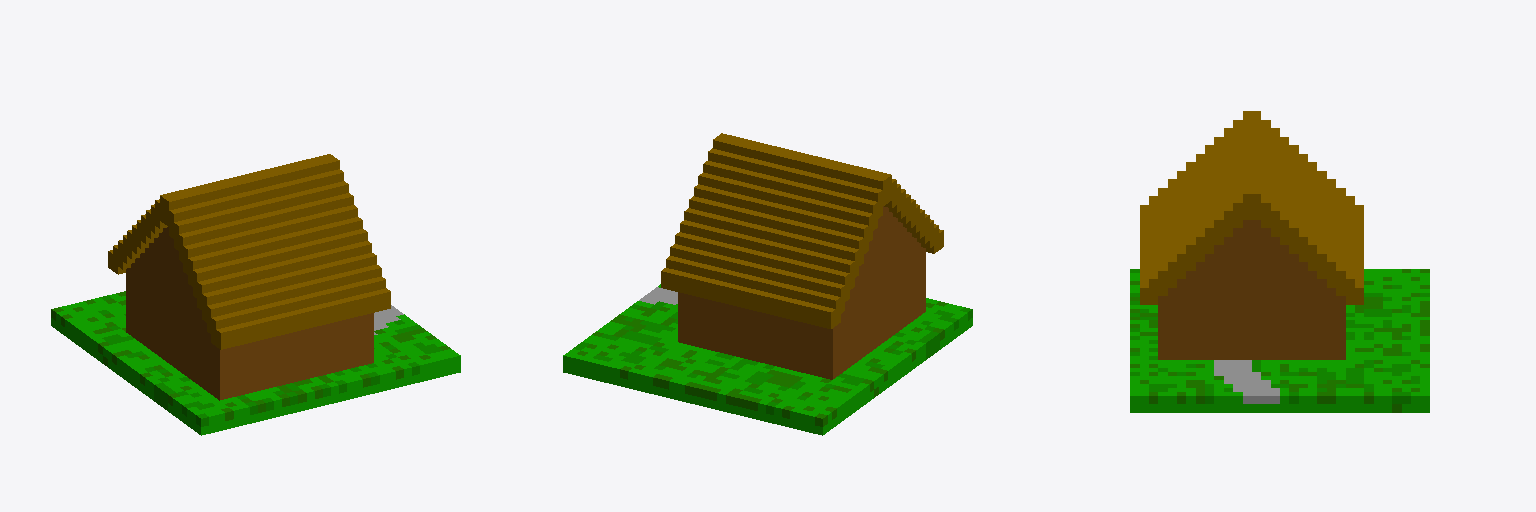
3 renders of one model, left to right at view 1: azimuth 30°, elevation 25°; view 2: azimuth 150°, elevation 25°; view 3: azimuth 270°, elevation 25°, orthographic.
Visible parts, largest first — view 1: huis; view 2: huis; view 3: huis.
Part boxes in pixels (bbox=[...]): huis: bbox=[51, 154, 460, 435]; huis: bbox=[563, 133, 972, 435]; huis: bbox=[1130, 111, 1429, 412].
Size of the model in its own units: 32 by 22 by 32.
Materials: 1 (1 with a texture image).